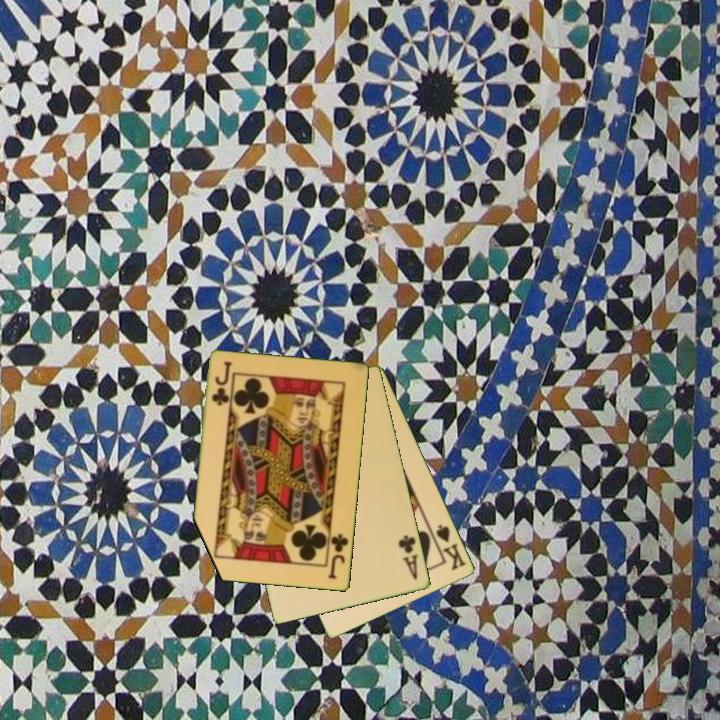Ac: (395, 532, 421, 583)
Jc: (325, 530, 351, 582), (209, 358, 234, 409)
Ks: (428, 521, 469, 573)
